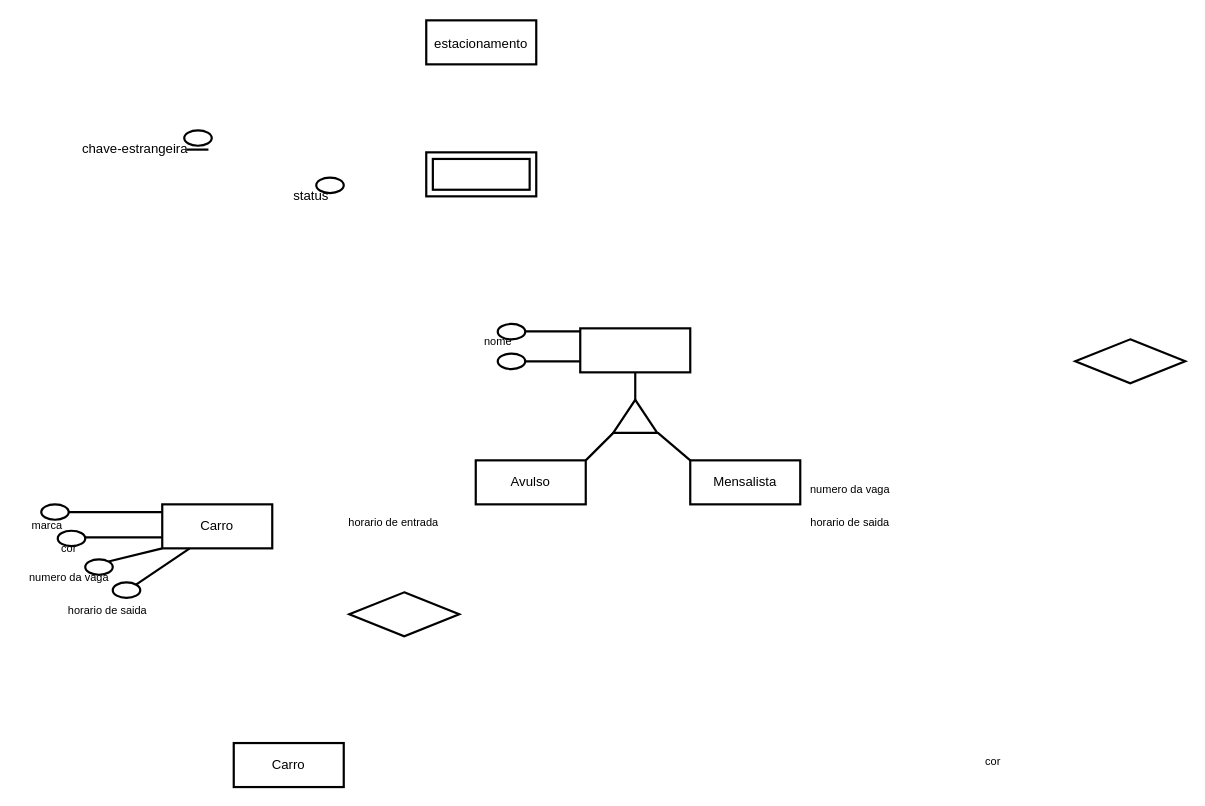
Some shapes in this 1205 by 806 pixel diagram are drawn without their labels. Here are the shapes that lost their labels. From the top down, the box of each, then its label:
(425, 151, 537, 197): vaga
(579, 327, 691, 373): Cliente
